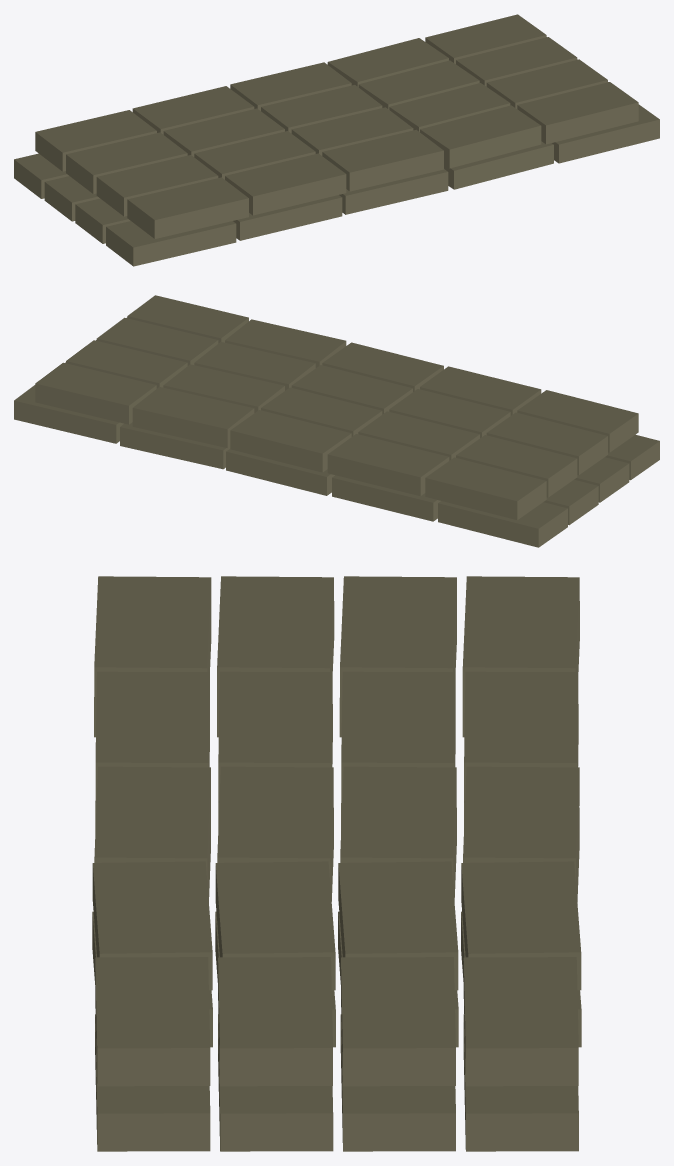
File: SM_Banqueta_v1_LOD0.fbx
The picture shows the model from 3 angles, top to bottom: view 1: azimuth 30°, elevation 25°; view 2: azimuth 150°, elevation 25°; view 3: azimuth 270°, elevation 25°; orthographic projection. The views are drawn at different scales.
Visible parts, largest first — view 1: SM_banqueta_tiro_v1_LOD0; view 2: SM_banqueta_tiro_v1_LOD0; view 3: SM_banqueta_tiro_v1_LOD0.
Part boxes in pixels (x1,y1,x2,y2): SM_banqueta_tiro_v1_LOD0: [14, 14, 659, 266]; SM_banqueta_tiro_v1_LOD0: [14, 295, 659, 547]; SM_banqueta_tiro_v1_LOD0: [92, 576, 581, 1151].
Bounding box in the file's own units: 4.95 × 0.37 × 1.99.
